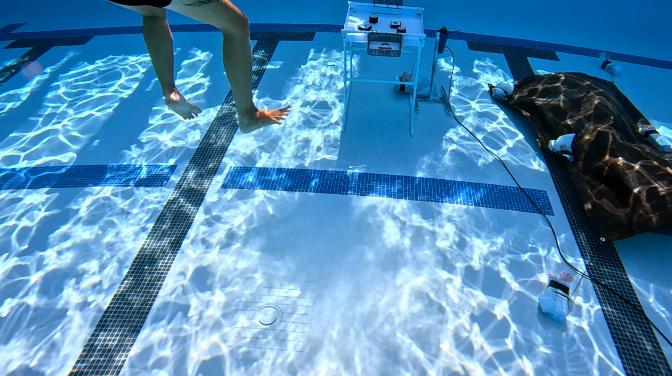pathmarker: (488, 69, 671, 243)
